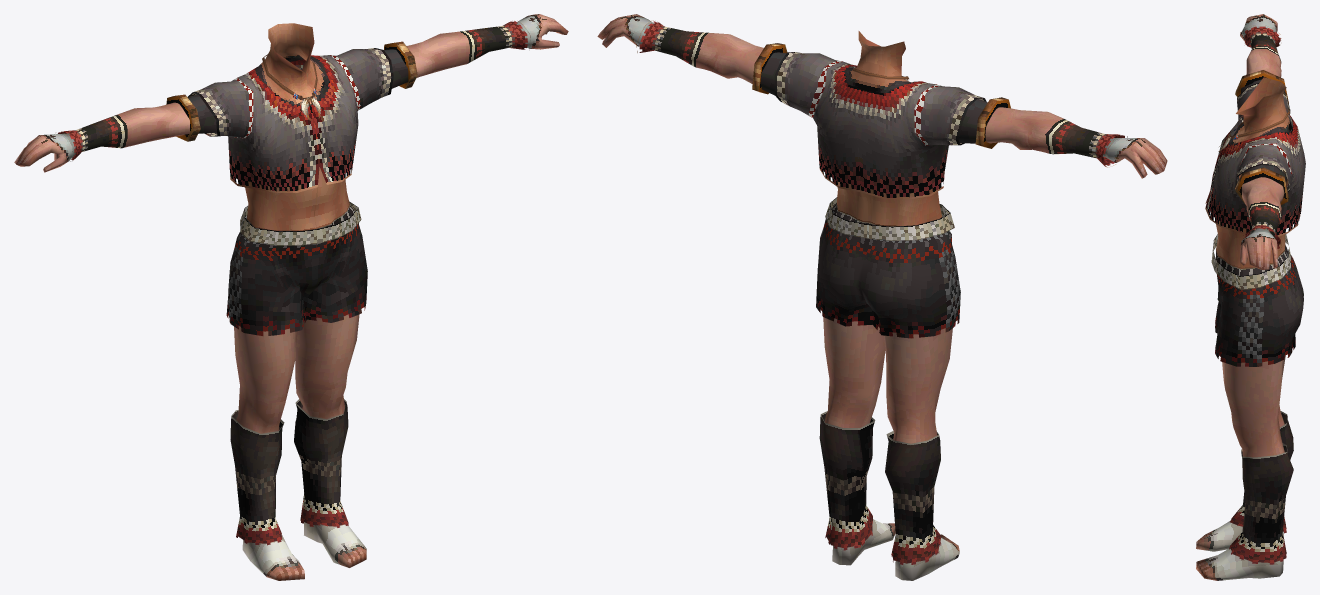
Rendered from body_01.obj.
The picture shows the model from 3 angles, left to right: view 1: azimuth 30°, elevation 25°; view 2: azimuth 150°, elevation 25°; view 3: azimuth 270°, elevation 25°; orthographic projection. The views are drawn at different scales.
Visible parts, largest first — view 1: editpl_m-0000-11, editpl_m-0000-10, editpl_m-0000-9; view 2: editpl_m-0000-11, editpl_m-0000-10, editpl_m-0000-9; view 3: editpl_m-0000-11, editpl_m-0000-10, editpl_m-0000-9.
Boxes of the visible parts, left/top/right/bottom form: editpl_m-0000-11: left=226, top=201, right=367, bottom=580; editpl_m-0000-10: left=187, top=23, right=408, bottom=230; editpl_m-0000-9: left=14, top=14, right=568, bottom=172; editpl_m-0000-11: left=816, top=197, right=960, bottom=580; editpl_m-0000-10: left=760, top=31, right=987, bottom=226; editpl_m-0000-9: left=597, top=14, right=1167, bottom=178; editpl_m-0000-11: left=1196, top=234, right=1303, bottom=580; editpl_m-0000-10: left=1205, top=77, right=1305, bottom=268; editpl_m-0000-9: left=1235, top=14, right=1288, bottom=269.
Bounding box in the file's own units: 177 × 159 × 33.49.
Materials: 3 (3 with a texture image).
